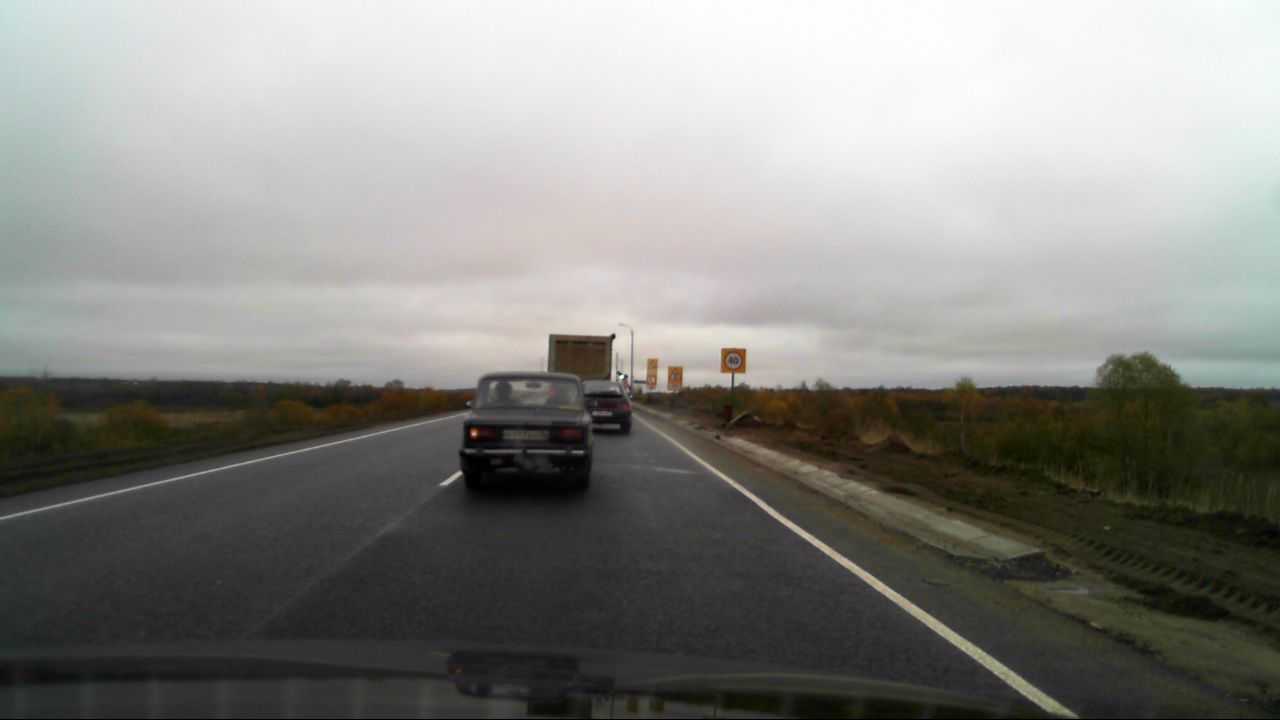speed_warning_40: (720, 348, 745, 374)
